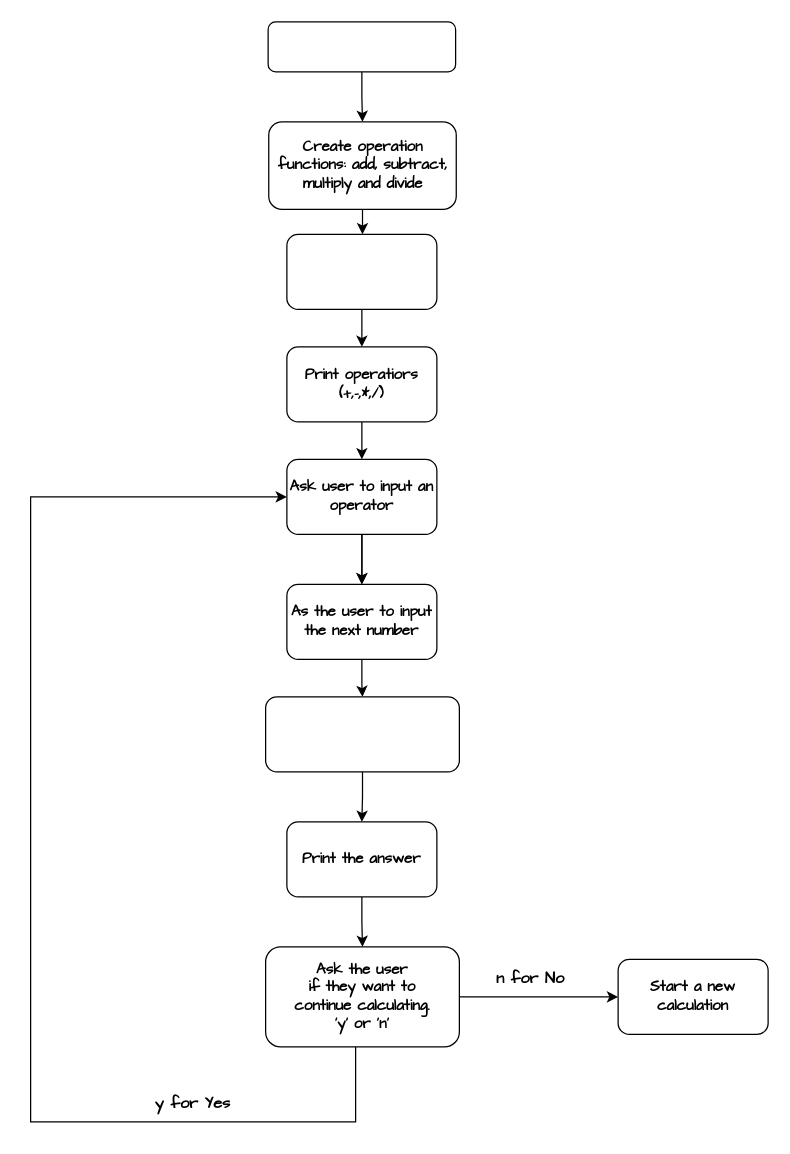
Some shapes in this 790 by 1154 pixel diagram are drawn without their labels. The centre of each missing label's shape, as x and y in pixels:
"Ask user to input the first number" belongs at point (361, 271).
"calculate the numbers based on the operator input" belongs at point (361, 734).
"START" belongs at point (361, 46).
